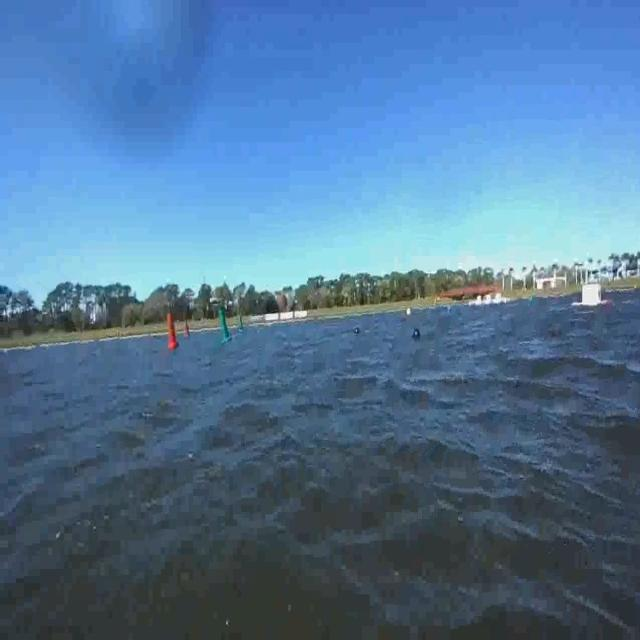black-buoy: (414, 330, 421, 340), (355, 326, 359, 334)
green-column-buoy: (215, 306, 232, 343), (239, 315, 244, 333)
red-column-buoy: (164, 314, 178, 351), (184, 317, 190, 340)
